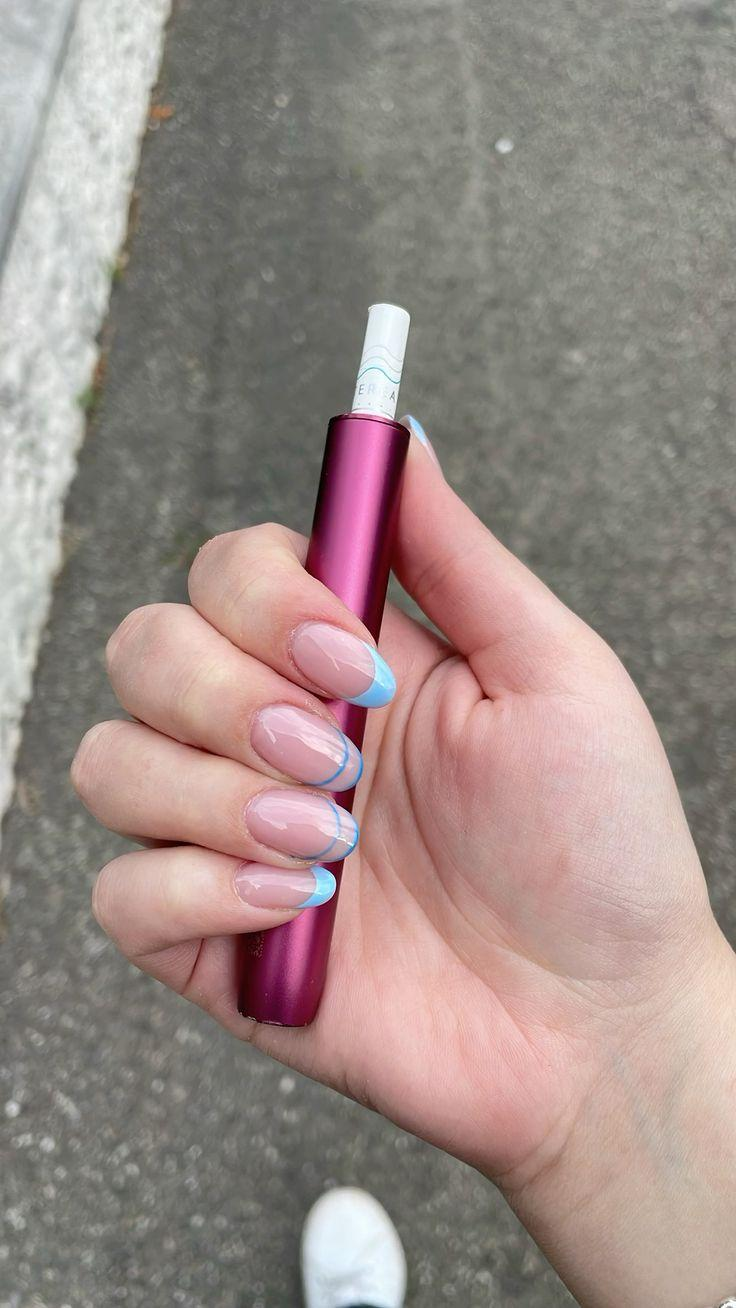iqos: (236, 299, 412, 1026)
